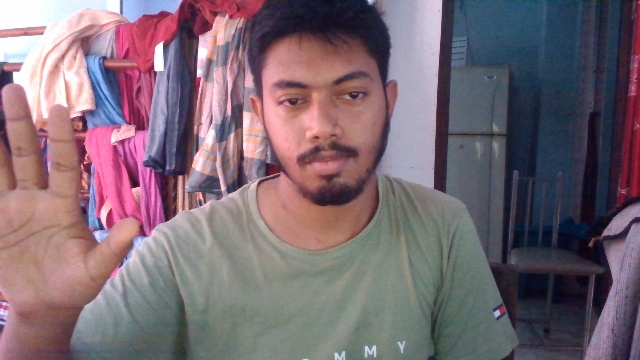hello: (2, 72, 139, 312)
